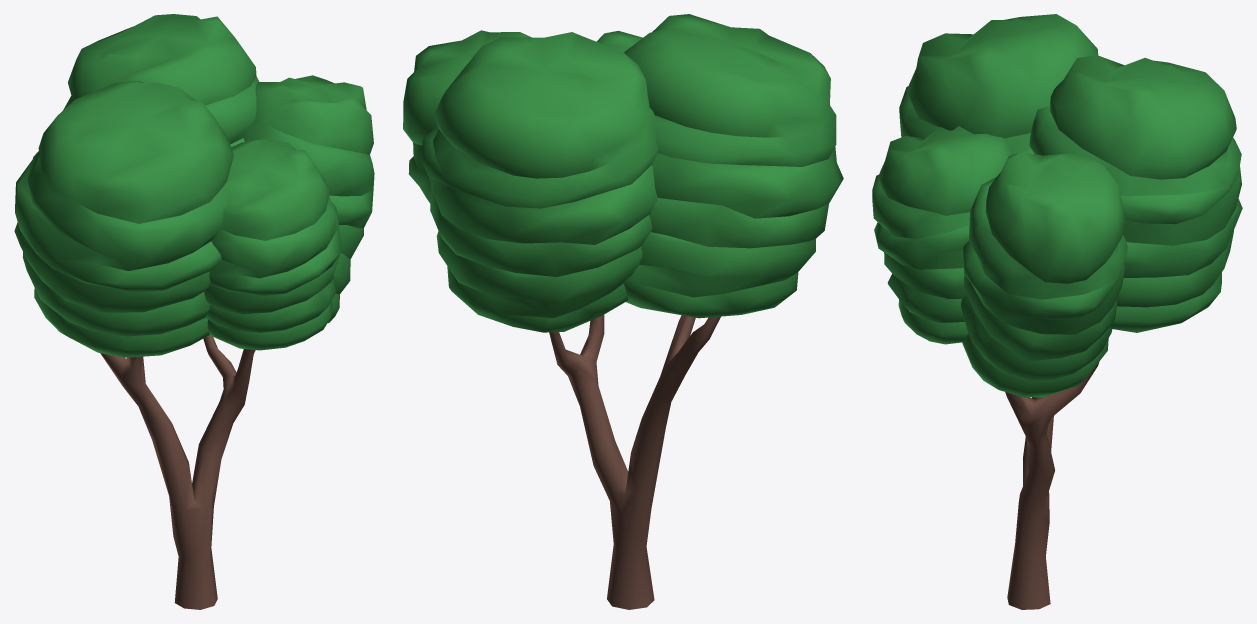
Rendered from fabulous_tree_019.glb.
3 renders of one model, left to right at view 1: azimuth 30°, elevation 25°; view 2: azimuth 150°, elevation 25°; view 3: azimuth 270°, elevation 25°, orthographic. The views are drawn at different scales.
Parts seen in each view (by area): view 1: fabulous_tree_019; view 2: fabulous_tree_019; view 3: fabulous_tree_019.
Part boxes in pixels (bbox=[...]): fabulous_tree_019: bbox=[14, 14, 374, 609]; fabulous_tree_019: bbox=[403, 14, 843, 609]; fabulous_tree_019: bbox=[872, 14, 1242, 609].
Bounding box in the file's own units: 6.03 × 8.68 × 5.34.
1 material, 1 textured.
